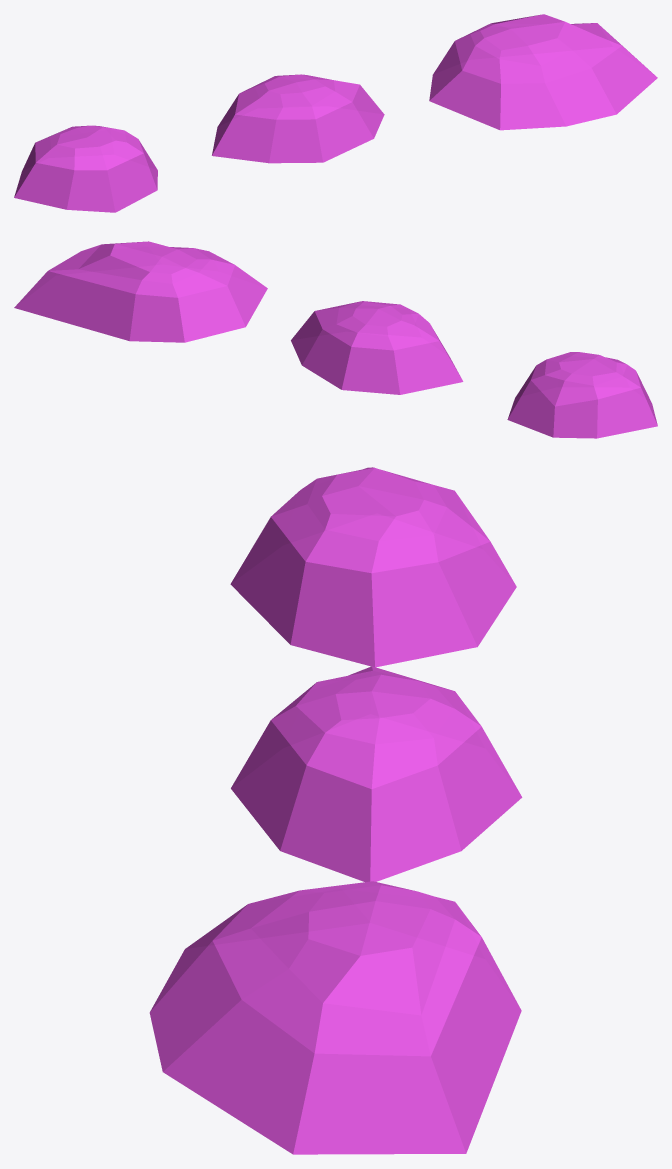
The model's file is MeteorOre.fbx.
The picture shows the model from 3 angles, top to bottom: view 1: azimuth 30°, elevation 25°; view 2: azimuth 150°, elevation 25°; view 3: azimuth 270°, elevation 25°; orthographic projection. The views are drawn at different scales.
Parts seen in each view (by area): view 1: Cube.002, Cube, Cube.001; view 2: Cube.002, Cube, Cube.001; view 3: Cube.002, Cube, Cube.001.
Part boxes in pixels (left/top/right/bottom): Cube.002: left=429, top=14, right=657, bottom=130; Cube: left=212, top=74, right=384, bottom=163; Cube.001: left=14, top=125, right=157, bottom=212; Cube.002: left=14, top=241, right=267, bottom=342; Cube: left=291, top=301, right=463, bottom=394; Cube.001: left=507, top=352, right=657, bottom=438; Cube.002: left=149, top=881, right=521, bottom=1154; Cube: left=231, top=666, right=522, bottom=882; Cube.001: left=230, top=467, right=516, bottom=667.
Bounding box in the file's own units: 1725 × 173 × 447.
